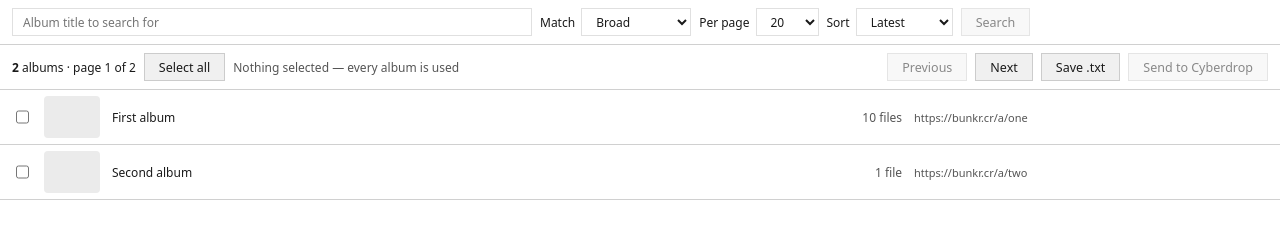
Test: BunkrView › reports a failed search instead of an empty list
In the field named "Search albums": (272, 22) [12, 8, 532, 36], type "test"
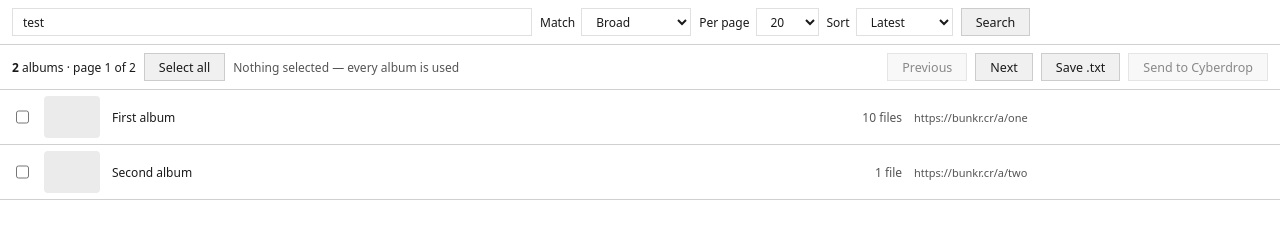
Click the button "Search": click(995, 22) [961, 8, 1030, 36]
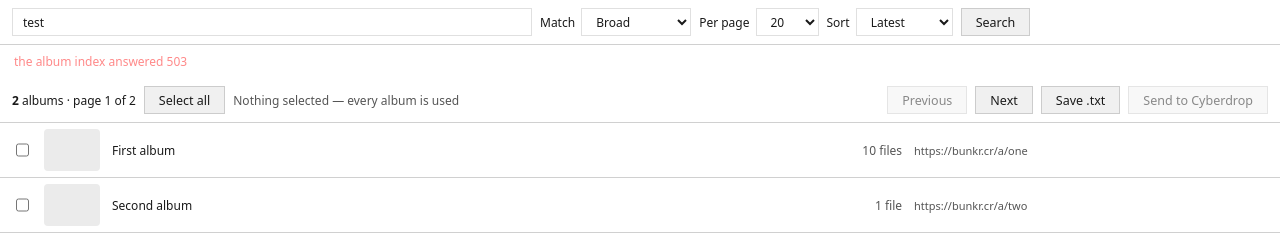
Result: the message shows "503" at [14, 53, 187, 70]
